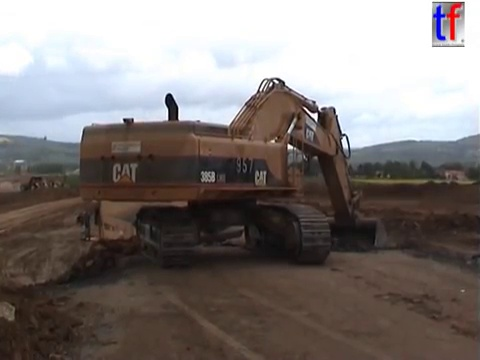excavator: (76, 75, 403, 266)
truck: (74, 197, 246, 273), (19, 175, 49, 194)
